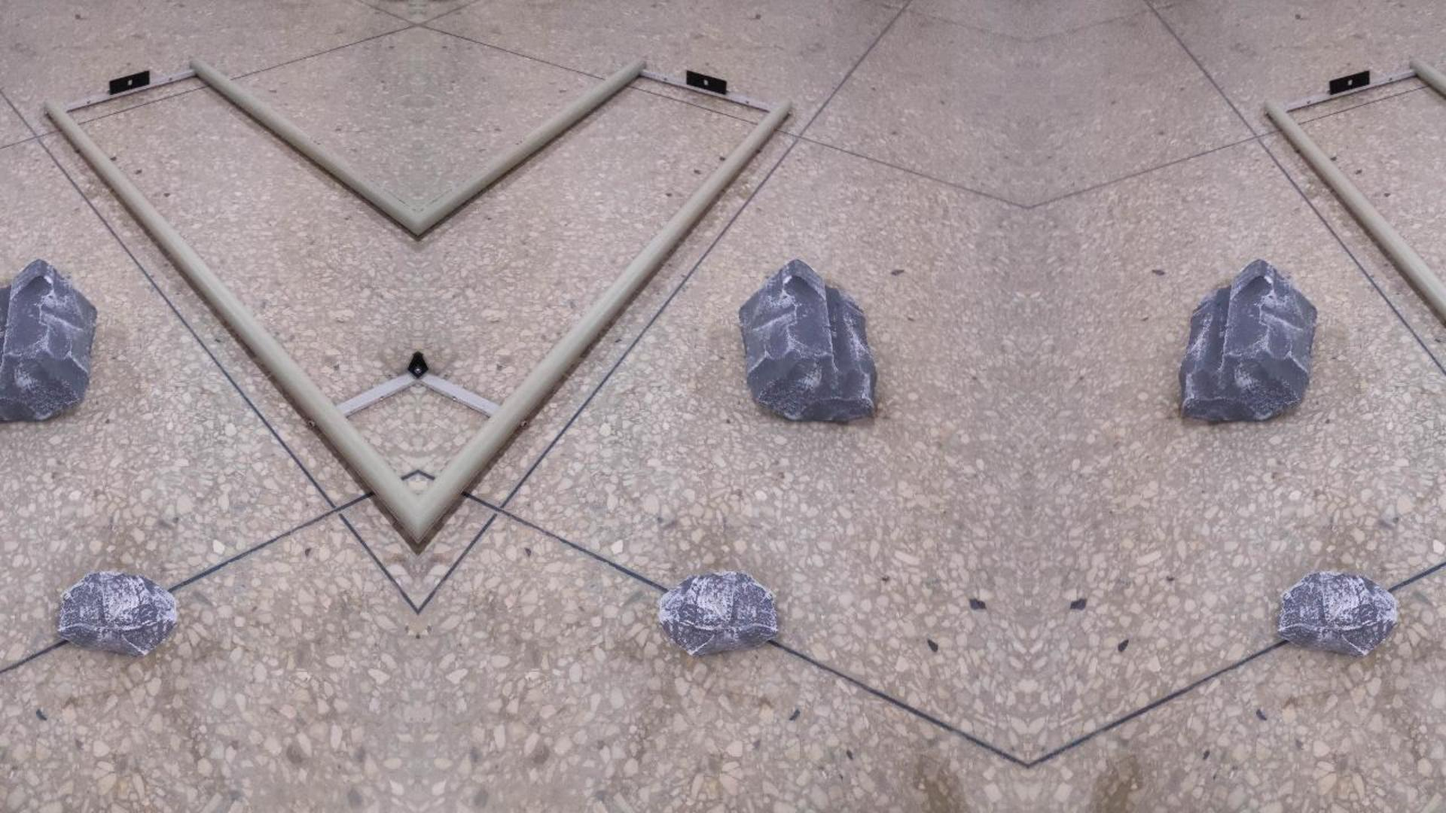rock: (739, 260, 876, 420), (1179, 260, 1316, 420), (0, 260, 96, 420), (657, 571, 777, 655), (1278, 571, 1396, 655), (59, 572, 176, 655)
